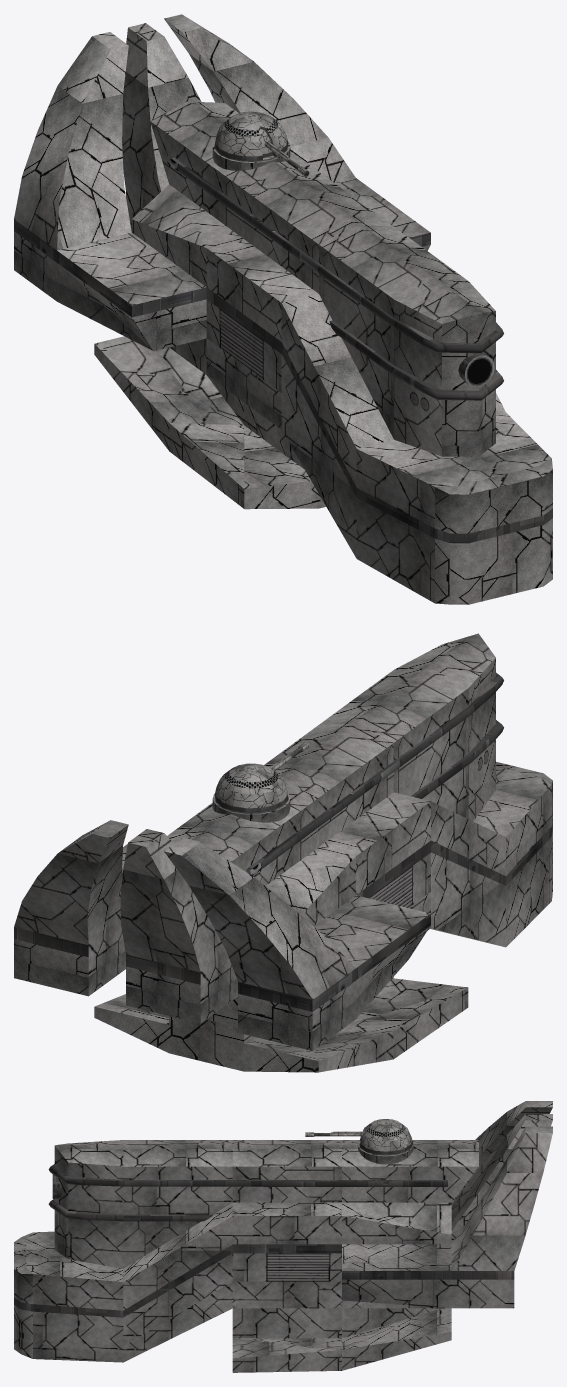
Rendered from apc.fbx.
3 views of the same model, one above another, from view 1: azimuth 30°, elevation 25°; view 2: azimuth 150°, elevation 25°; view 3: azimuth 270°, elevation 25° (orthographic). The views are drawn at different scales.
Parts seen in each view (by area): view 1: Cube, Cone; view 2: Cube, Cone; view 3: Cube, Cone.
Boxes of the visible parts, x1,y1,x2,y2 form: Cube: [14, 14, 552, 604]; Cone: [214, 111, 309, 176]; Cube: [14, 633, 552, 1072]; Cone: [214, 742, 309, 813]; Cube: [14, 1101, 552, 1372]; Cone: [305, 1119, 412, 1155].
Size of the model in its own units: 600 by 602 by 1285.
